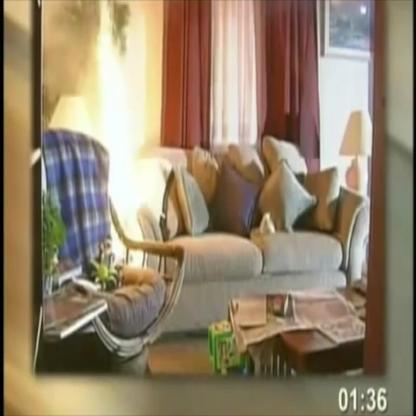fire: (94, 2, 154, 266)
